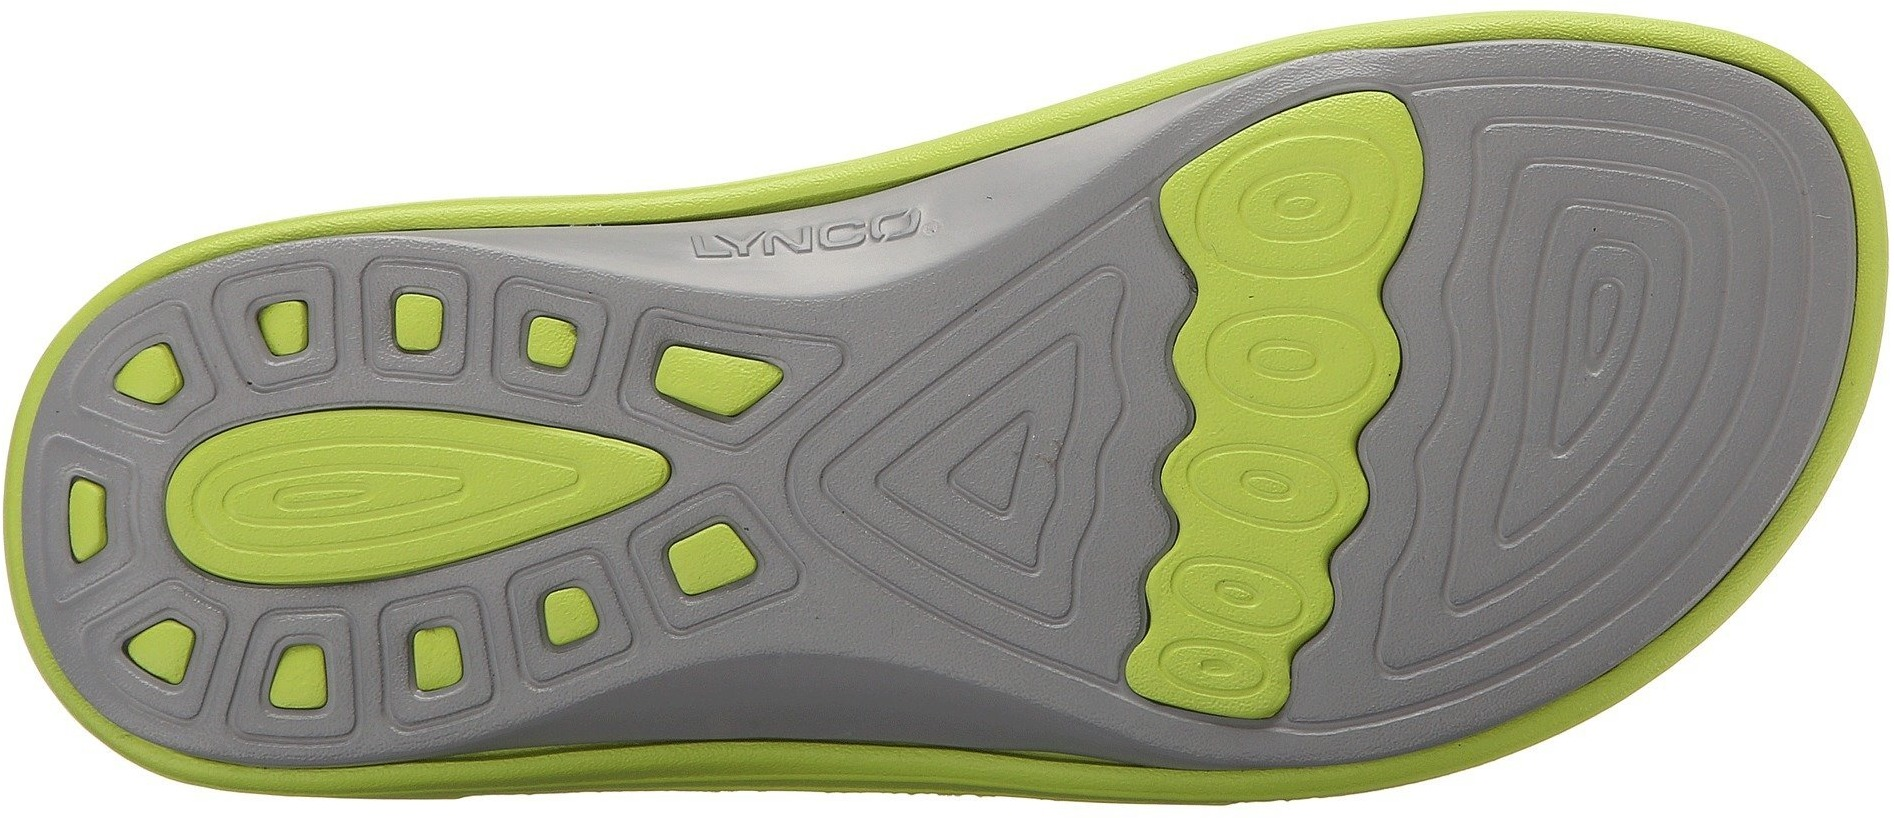circle: (1190, 122, 1419, 288), (1180, 423, 1358, 538)
quad: (28, 433, 186, 625), (348, 246, 524, 411), (396, 572, 553, 724)
triangle: (1512, 149, 1789, 435), (846, 359, 1058, 608), (926, 283, 1106, 574)
